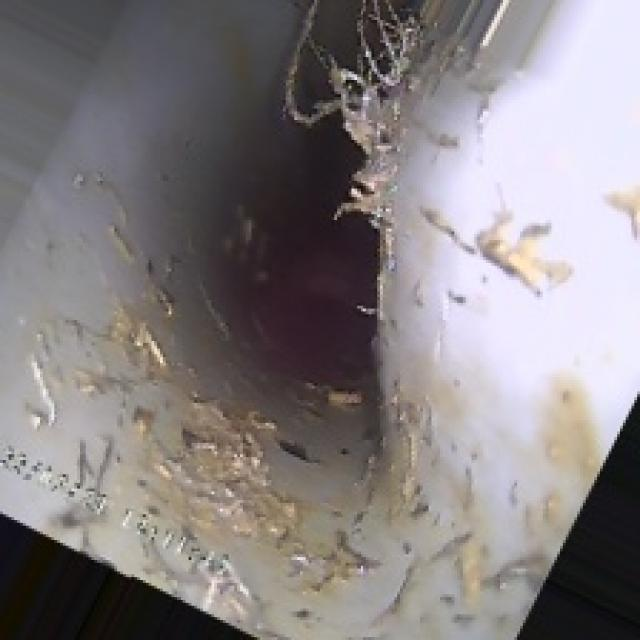shape_deformation: (160, 31, 543, 488)
